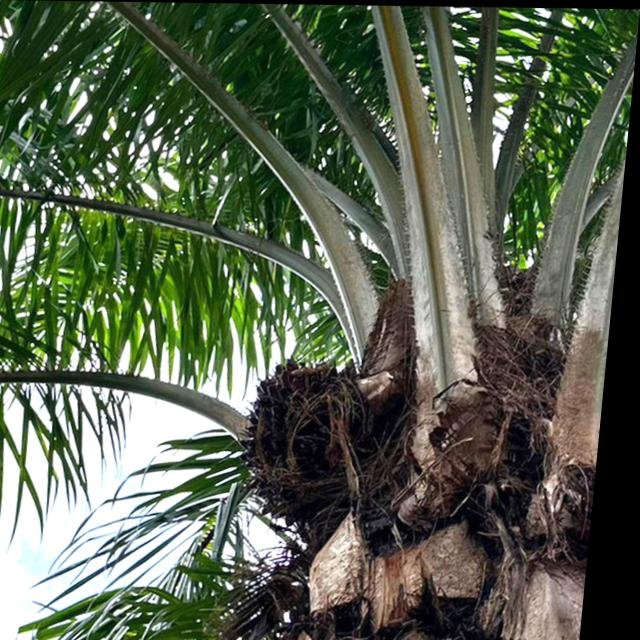ripe: (238, 347, 404, 529)
